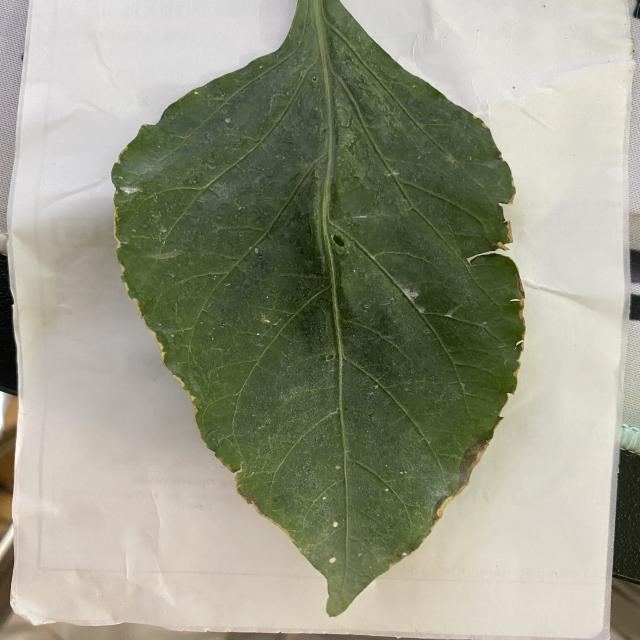Leaf: (108, 21, 524, 616)
